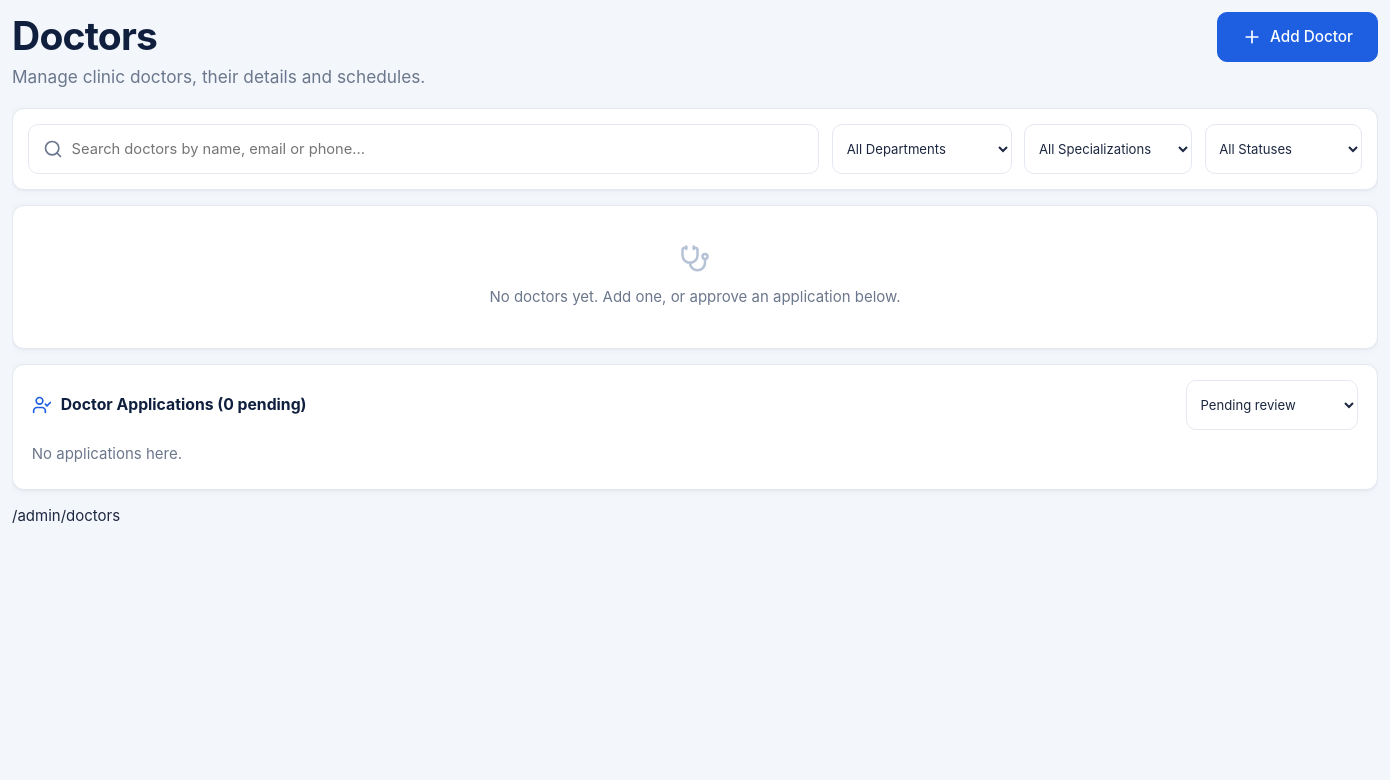
Test: Doctors list › empty, no-match and error states
Check: the text "No doctors yet. Add one, or approve an application below." is shown, box [489,287,901,306]
Select "Inactive" in the 3rd dropdown named "Status" at (1283, 149), box [1204,124,1362,174]
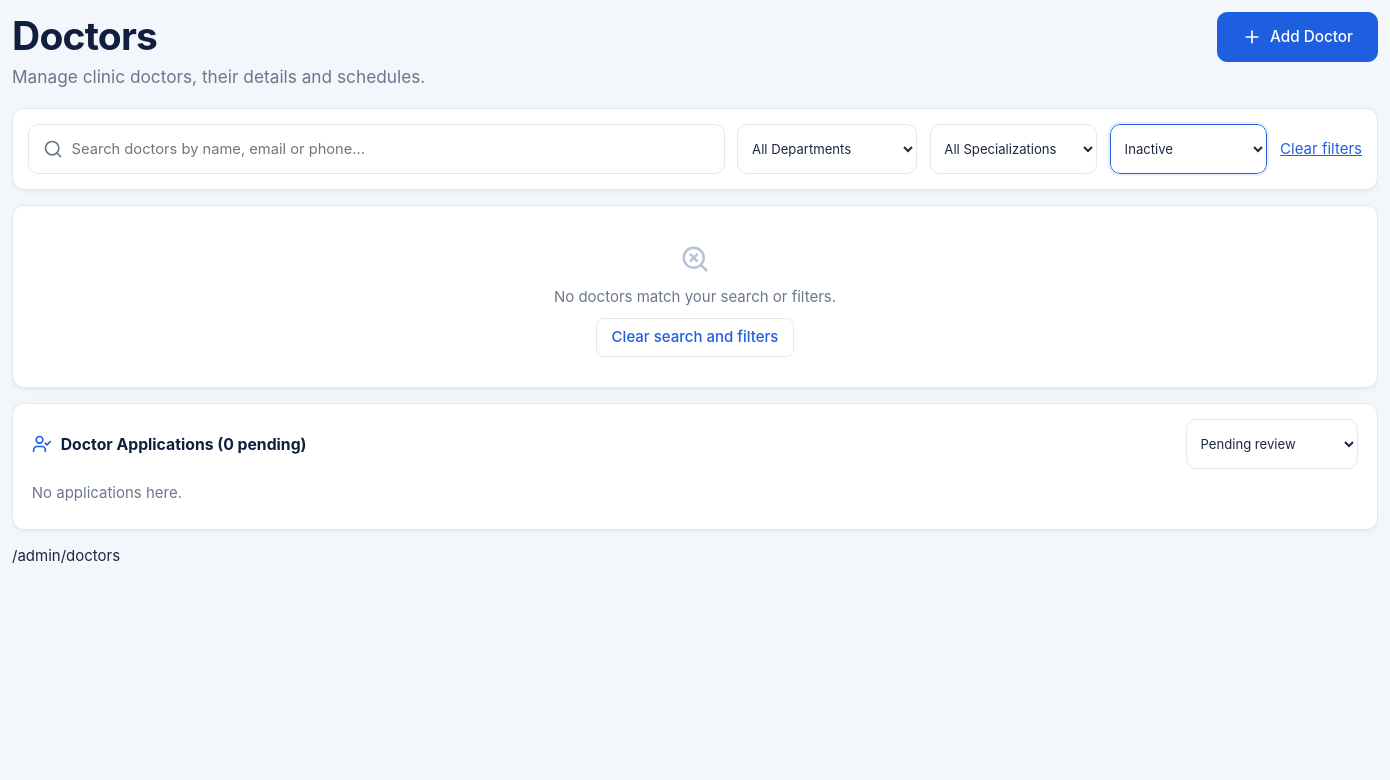
Check: the text "No doctors match your search or filters." is shown, box [554,287,836,306]
